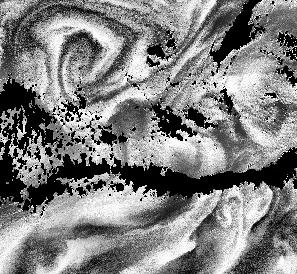AE: (49, 21, 112, 87)
